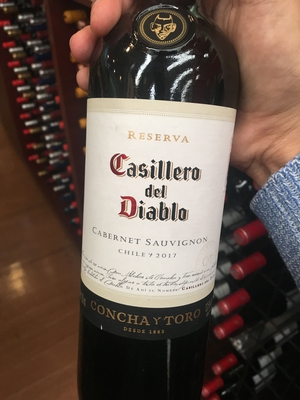casillero del diablo cabernet sauvignon: (72, 1, 240, 400)
